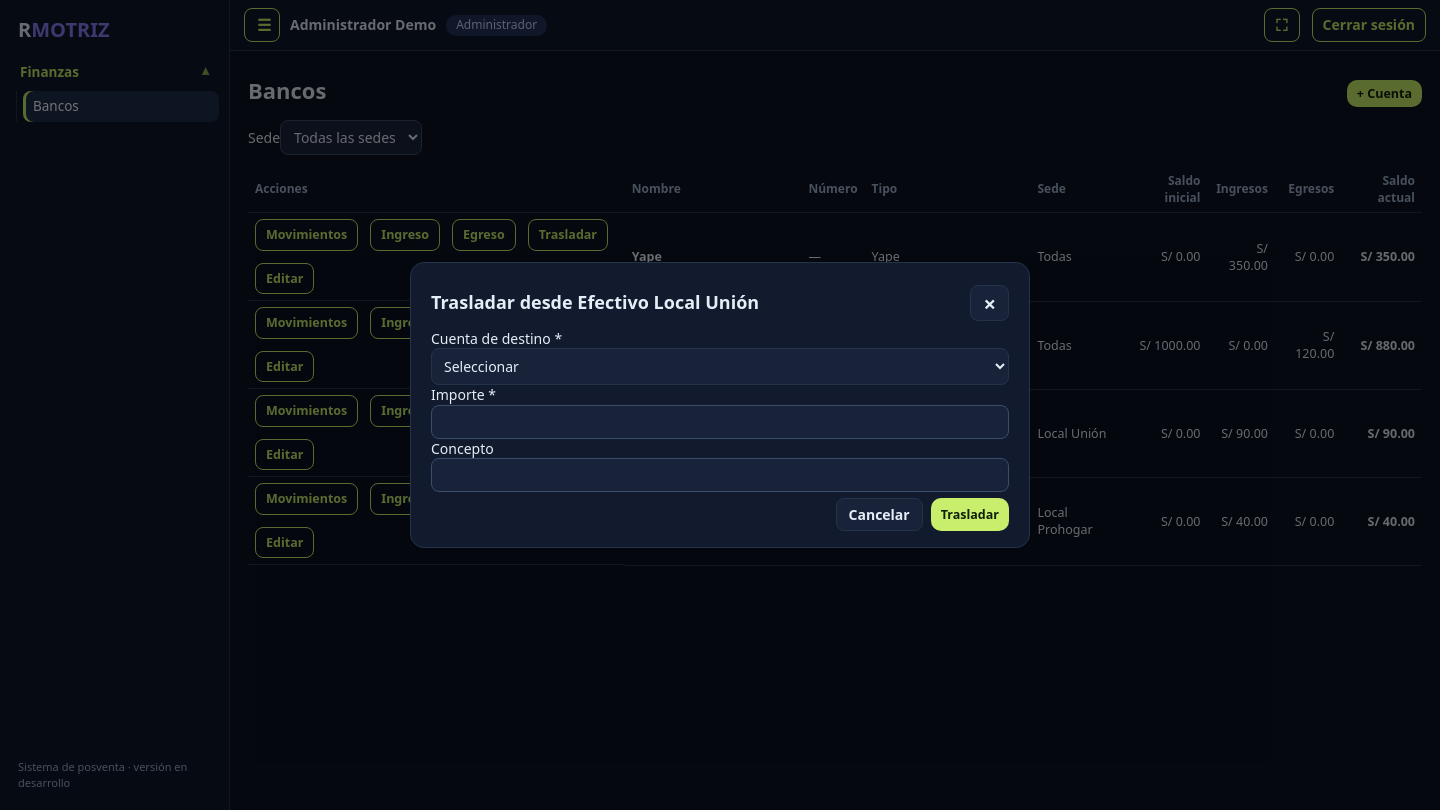
Test: Administrador: traslada entre cuentas y registra un egreso con sus validaciones
Earlier steps of the test are not shown.
Click the button "Trasladar" at (970, 514), box x1=931 y1=498 x2=1009 y2=531
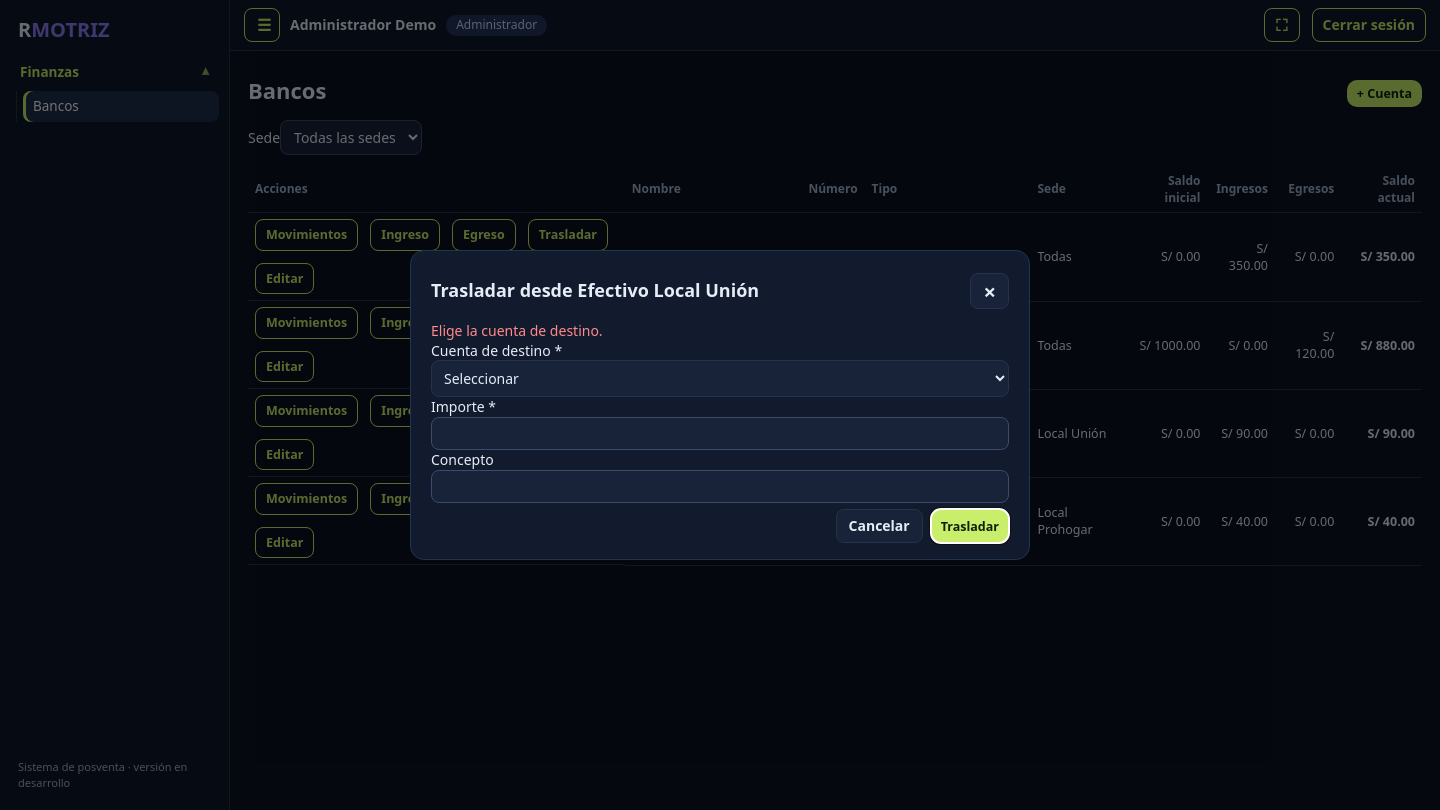
Check: the message reads "Elige la cuenta de destino.", box x1=431 y1=321 x2=603 y2=340
Select "Yape" in the dropdown labelled "Cuenta de destino *" at (720, 379), box x1=431 y1=360 x2=1009 y2=397
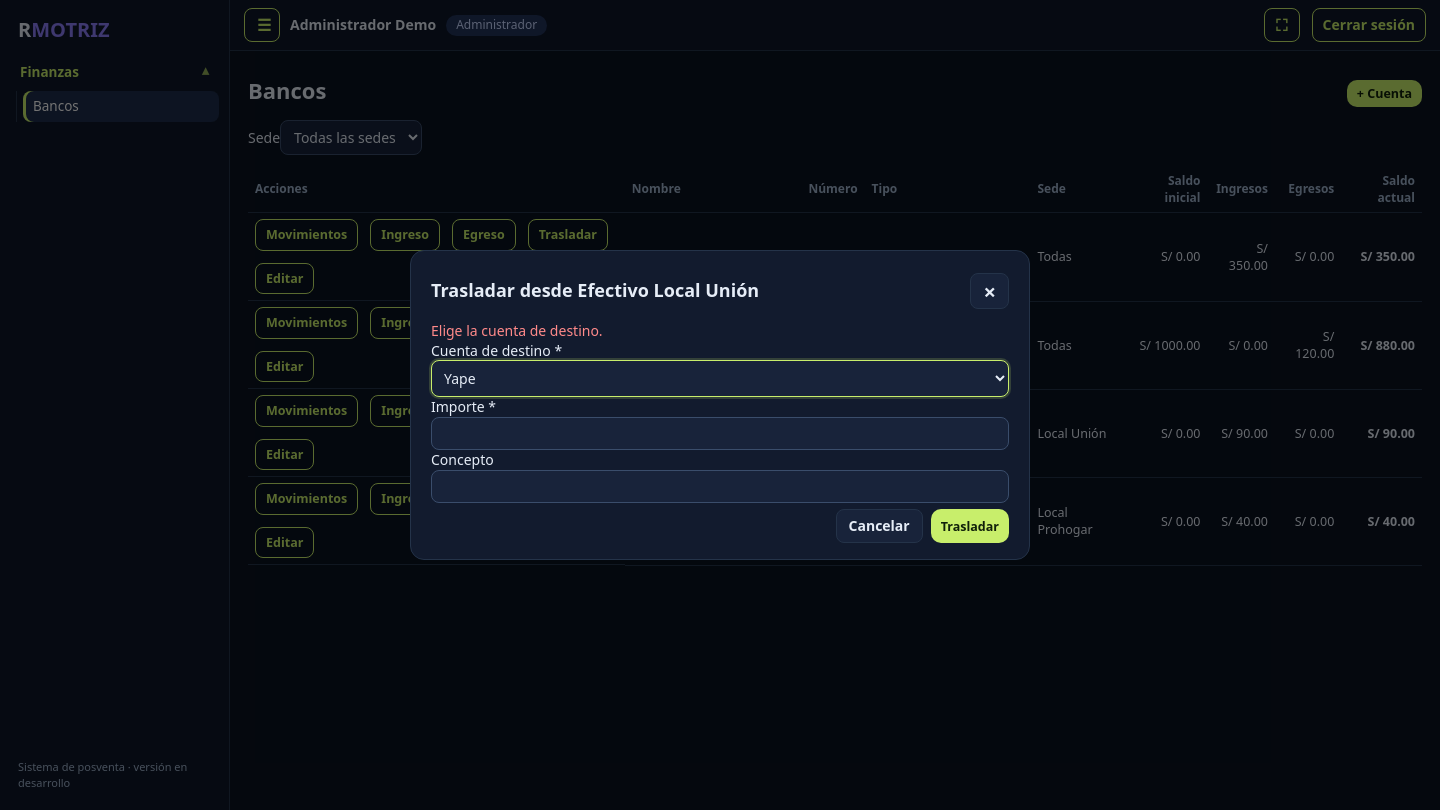
Type "25,50" into the field labelled "Importe *" at (720, 434), box x1=431 y1=417 x2=1009 y2=450
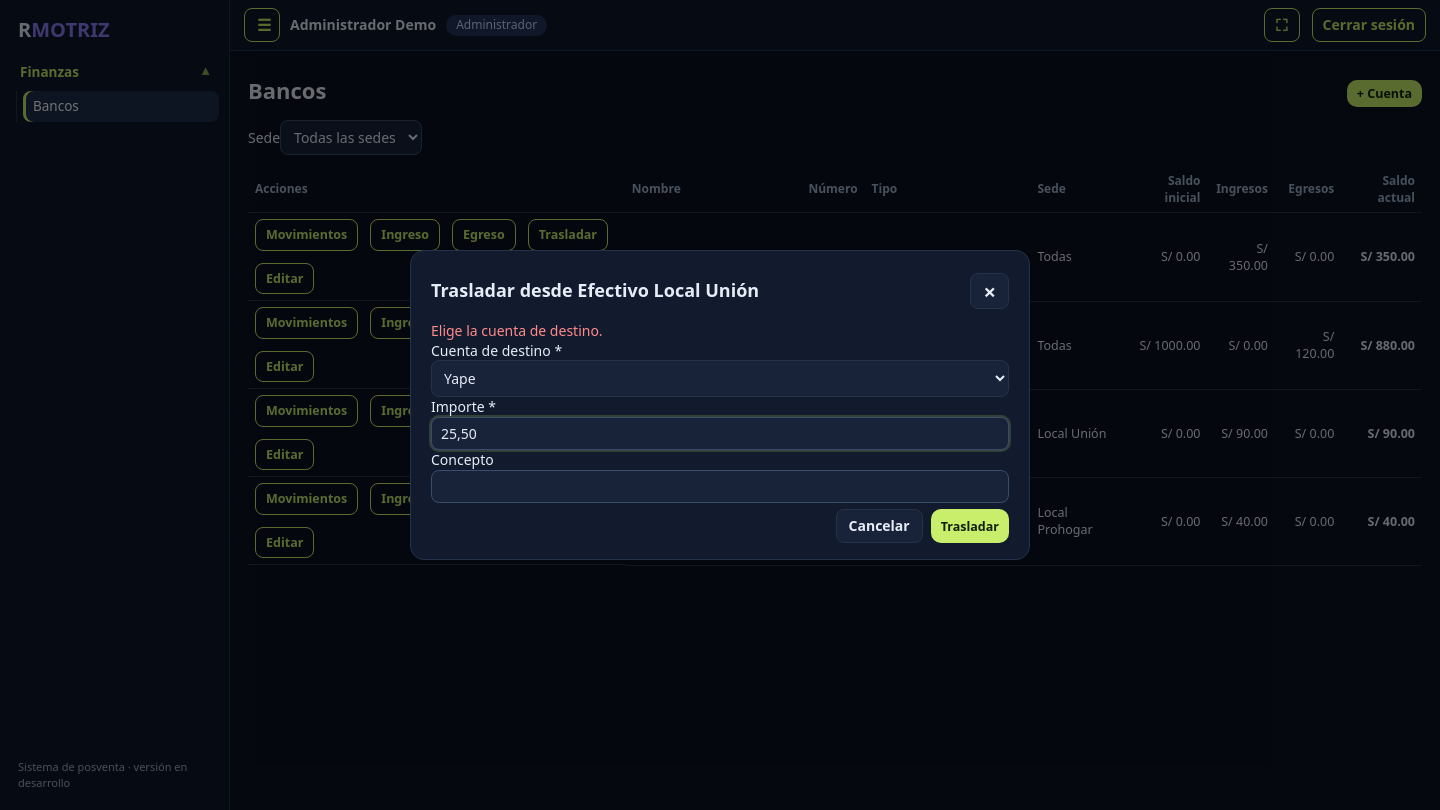
Click the button "Trasladar" at (970, 526), box x1=931 y1=510 x2=1009 y2=543
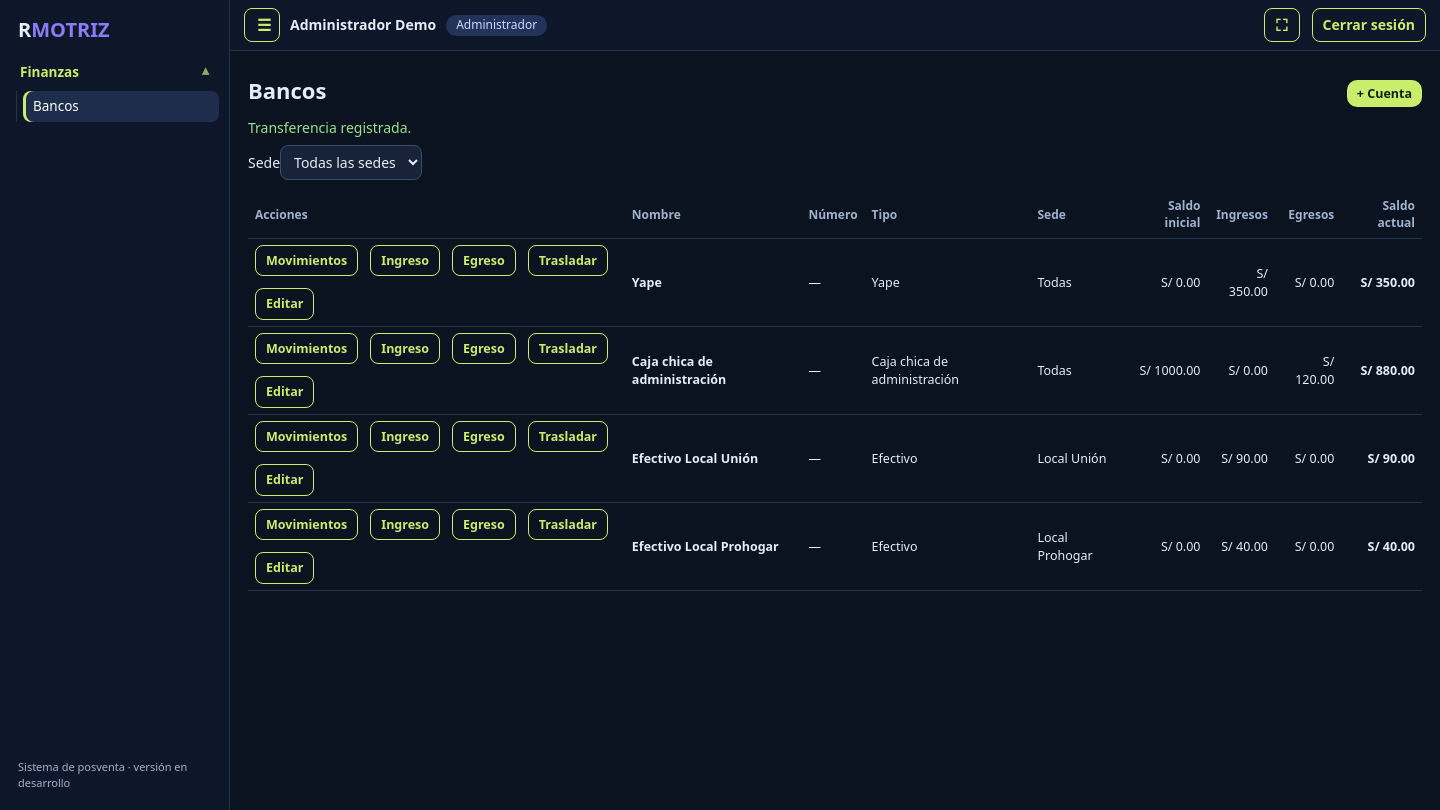
Check: the message reads "Transferencia registrada.", box x1=248 y1=118 x2=411 y2=137
Click the button "Egreso" in the row of "S/ 1000.00" at (484, 349), box x1=452 y1=333 x2=516 y2=364
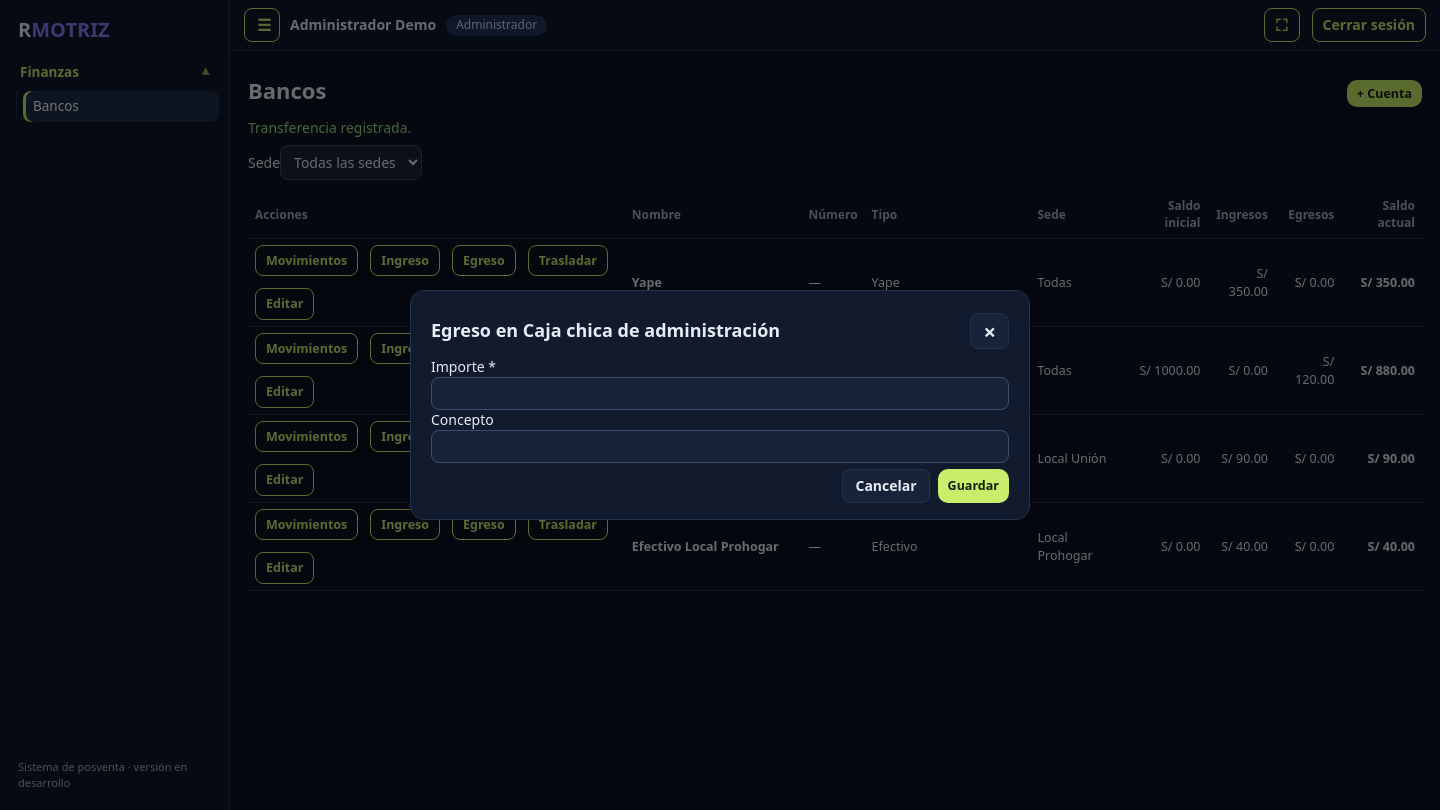
Click the button "Guardar" at (973, 486), box x1=938 y1=469 x2=1009 y2=503
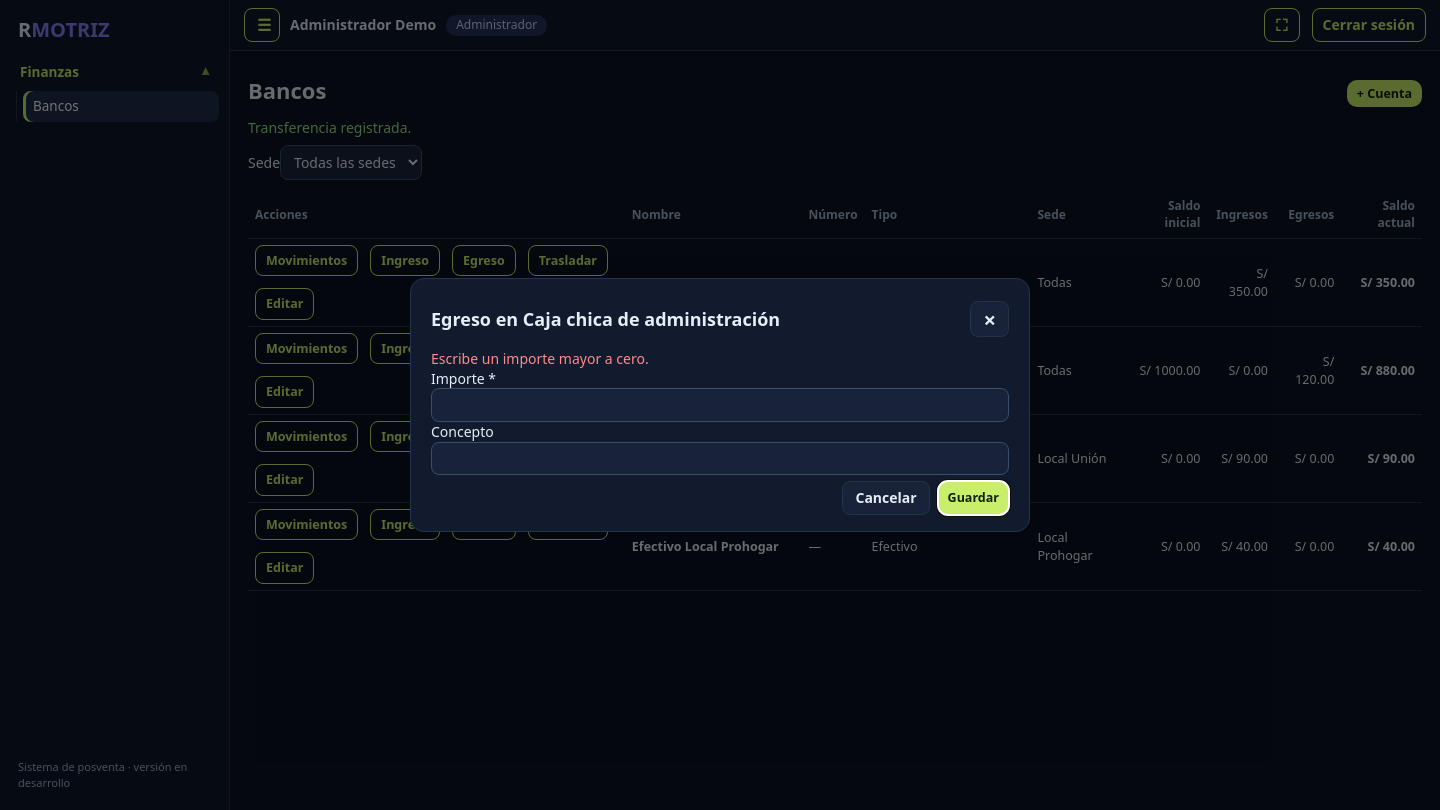
Check: the message "Escribe un importe mayor a cero." is shown, box x1=431 y1=349 x2=649 y2=368
